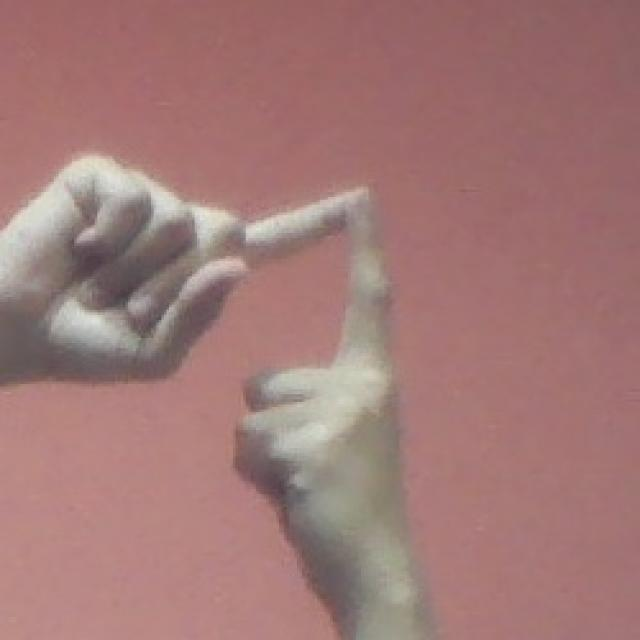Alphabet-E: (0, 156, 435, 639), (1, 233, 348, 640), (0, 156, 284, 384)
